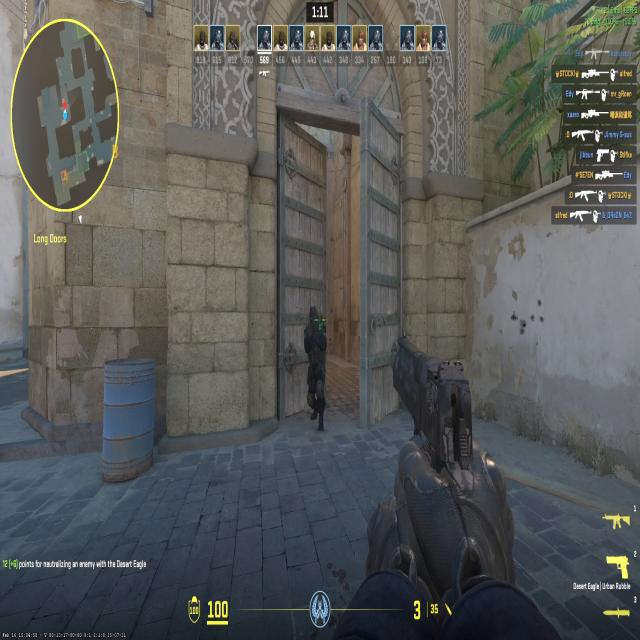player: (299, 303, 336, 430)
